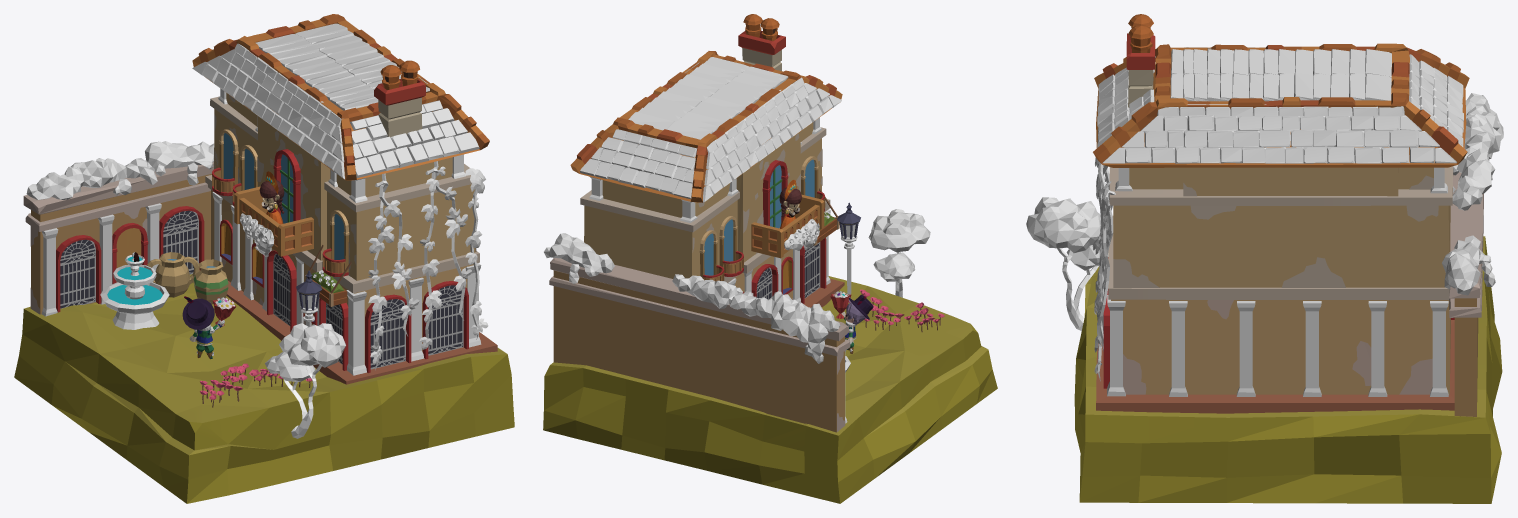
File: 0072_RomeoAndJuliet.fbx
The picture shows the model from 3 angles, left to right: view 1: azimuth 30°, elevation 25°; view 2: azimuth 150°, elevation 25°; view 3: azimuth 270°, elevation 25°; orthographic projection. The views are drawn at different scales.
Visible parts, largest first — view 1: garden_Floor, House_Base2, Door (×6), Wall, House_Base1, Pillar (×7), Roof_BaseL, Chimney, window_2F (×3), Roof_BaseR, fountain, terrace (+13 smaller); view 2: garden_Floor, Wall, House_Base2, Roof_BaseR, wall_wood2 (×2), wall_wood1_1, window_2F (×3), Door (×2), Chimney, terrace, TreeLeaf1, Roof_BaseL (+4 smaller); view 3: House_Base2, garden_Floor, House_Base1, Pillar (×6), Roof_BaseR, Roof_BaseL, Wall, wall_wood2 (×2), TreeLeaf1, Chimney, rooftopbrick_darkOrange (×2), brick_orange (×2) (+5 smaller).
Part boxes in pixels (bbox=[...]): garden_Floor: bbox=[14, 274, 514, 503]; House_Base2: bbox=[205, 93, 479, 293]; Door (×6): bbox=[56, 206, 468, 372]; Wall: bbox=[23, 162, 213, 314]; House_Base1: bbox=[211, 190, 497, 384]; Pillar (×7): bbox=[42, 203, 481, 375]; Roof_BaseL: bbox=[276, 54, 489, 180]; Chimney: bbox=[374, 60, 425, 137]; window_2F (×3): bbox=[219, 129, 349, 275]; Roof_BaseR: bbox=[192, 14, 391, 110]; fountain: bbox=[100, 252, 169, 329]; terrace: bbox=[234, 186, 313, 256]; garden_Floor: bbox=[543, 276, 997, 503]; Wall: bbox=[549, 258, 850, 432]; House_Base2: bbox=[580, 122, 830, 282]; Roof_BaseR: bbox=[570, 86, 757, 202]; wall_wood2 (×2): bbox=[544, 233, 737, 308]; wall_wood1_1: bbox=[771, 294, 840, 363]; window_2F (×3): bbox=[699, 156, 818, 278]; Door (×2): bbox=[751, 238, 826, 303]; Chimney: bbox=[738, 14, 785, 71]; terrace: bbox=[751, 194, 824, 258]; TreeLeaf1: bbox=[868, 209, 930, 252]; Roof_BaseL: bbox=[662, 51, 842, 144]; House_Base2: bbox=[1108, 166, 1453, 299]; garden_Floor: bbox=[1074, 236, 1502, 503]; House_Base1: bbox=[1096, 299, 1454, 413]; Pillar (×6): bbox=[1107, 295, 1448, 396]; Roof_BaseR: bbox=[1282, 43, 1469, 167]; Roof_BaseL: bbox=[1093, 44, 1283, 167]; Wall: bbox=[1449, 146, 1483, 416]; wall_wood2 (×2): bbox=[1442, 148, 1495, 295]; TreeLeaf1: bbox=[1026, 197, 1100, 252]; Chimney: bbox=[1126, 14, 1155, 107]; rooftopbrick_darkOrange (×2): bbox=[1365, 49, 1391, 100]; brick_orange (×2): bbox=[1258, 130, 1419, 147].
Bounding box in the file's own units: 19.65 × 20 × 20.06.
